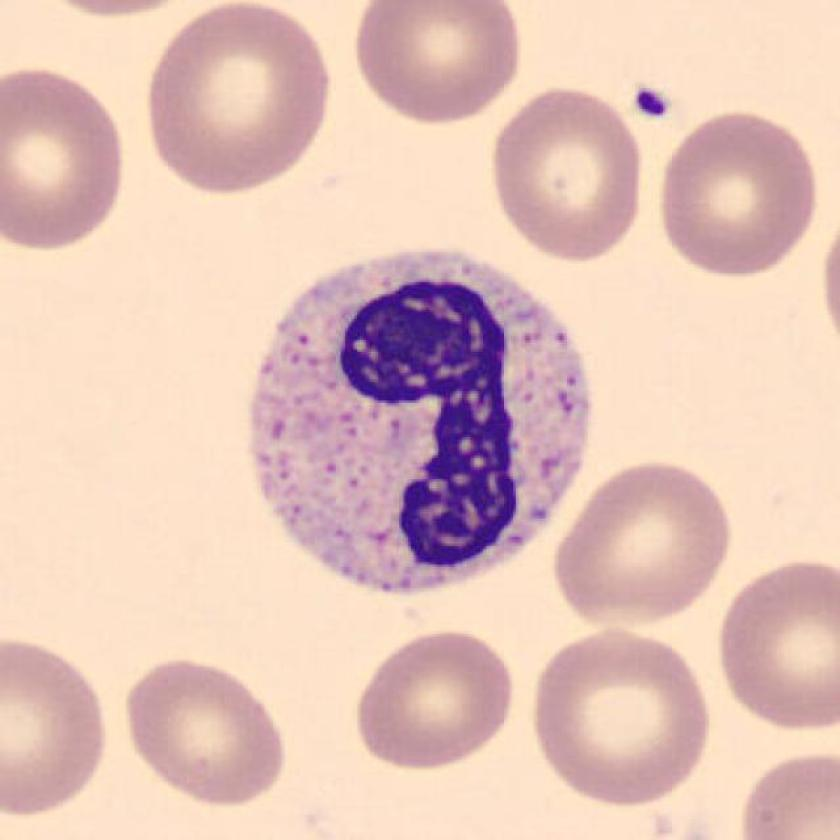neutrophil: (251, 253, 592, 590)
